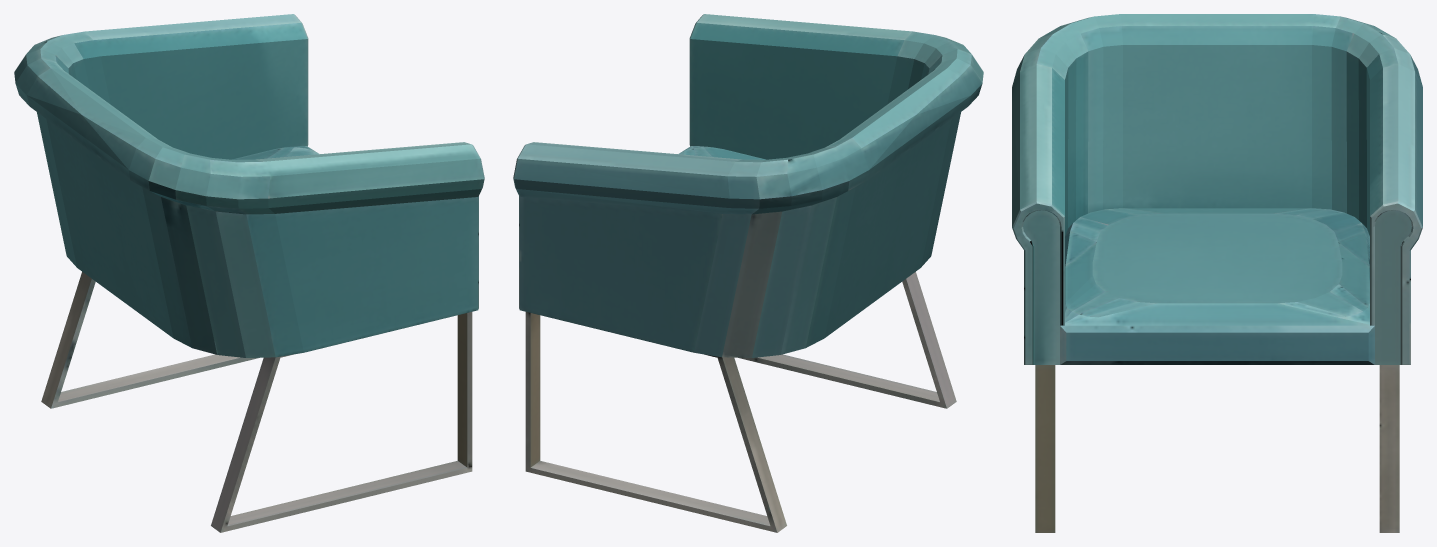
3 renders of one model, left to right at view 1: azimuth 30°, elevation 25°; view 2: azimuth 150°, elevation 25°; view 3: azimuth 270°, elevation 25°, orthographic.
Visible parts, largest first — view 1: Node; view 2: Node; view 3: Node.
Part boxes in pixels (x1,y1,x2,y2): Node: (14, 14, 484, 532); Node: (513, 14, 983, 532); Node: (1012, 14, 1422, 532).
Size of the model in its own units: 0.606 by 0.7 by 0.6896.
1 material, 1 textured.
